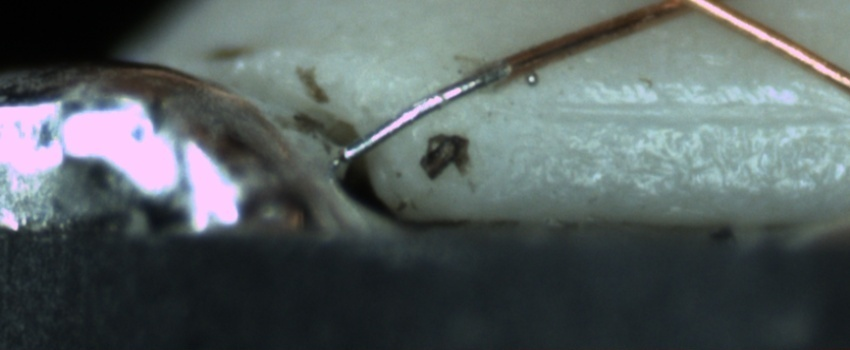CL: (654, 0, 738, 20)
DL: (540, 77, 849, 136)
TS: (342, 64, 511, 160)
